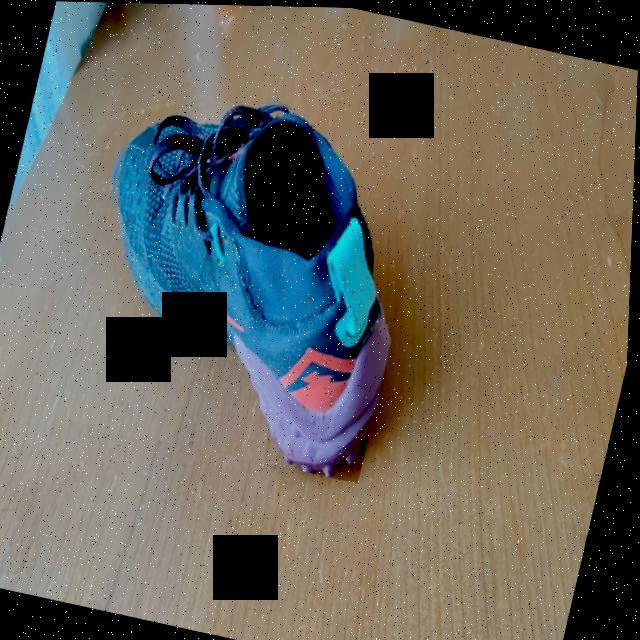shoe: (56, 65, 442, 483)
